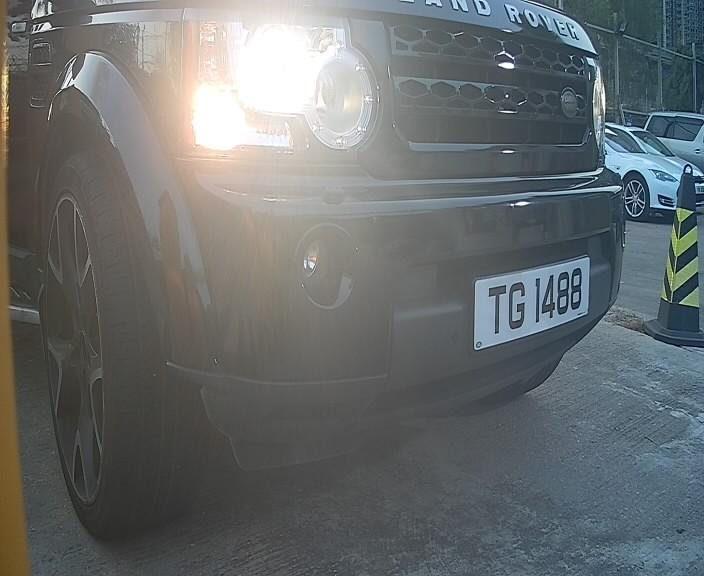License Plate: (463, 247, 595, 353)
